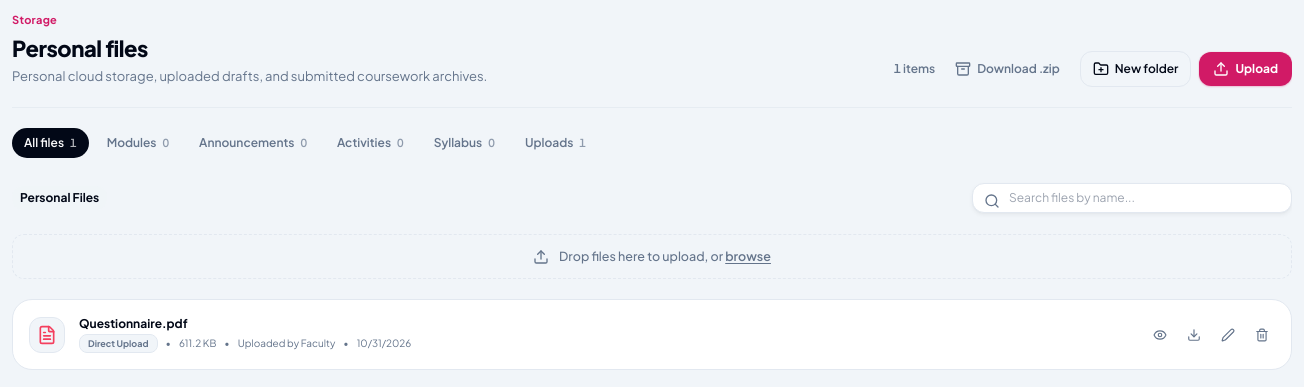
Test: FilesView file deletion loading indicator › displays loading spinner and indicator while deleting a file
Expected: the text "Questionnaire.pdf" is shown, [79,316,188,331]
Click the button titled "Delete File".
click(1262, 335)  # box [1249,322,1275,348]
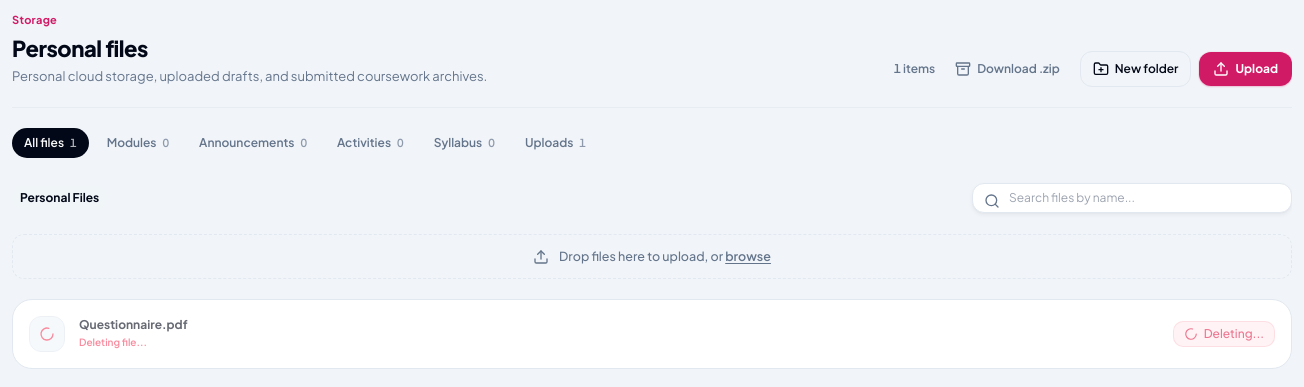
Expected: the element with test id "file-deleting-indicator" is shown, [1173,321,1275,347]
Expected: the icon with test id "file-deleting-spinner" is shown, [39,326,55,342]
Expected: the text "Deleting file..." is shown, [79,335,147,350]
